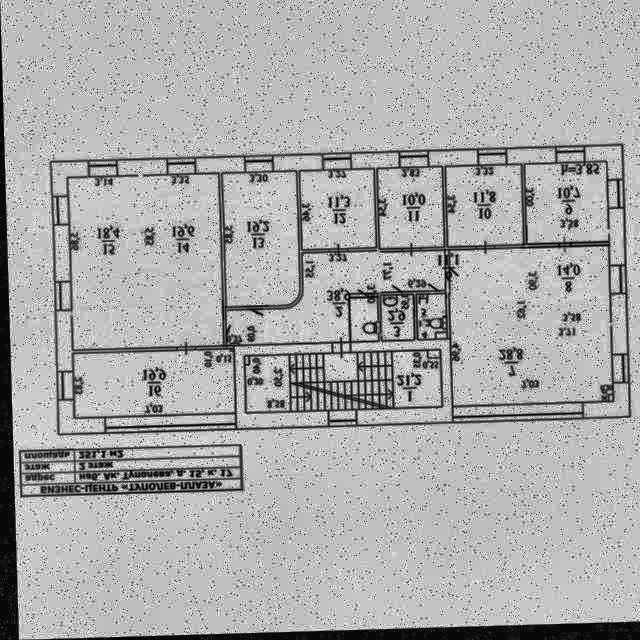room: (68, 176, 220, 350), (447, 249, 610, 409), (222, 251, 445, 348), (242, 354, 439, 415), (70, 351, 233, 419), (220, 173, 299, 309), (523, 166, 607, 247), (444, 169, 522, 249), (299, 172, 374, 252), (376, 170, 442, 251), (378, 299, 412, 344), (414, 297, 444, 343), (348, 301, 376, 345)
